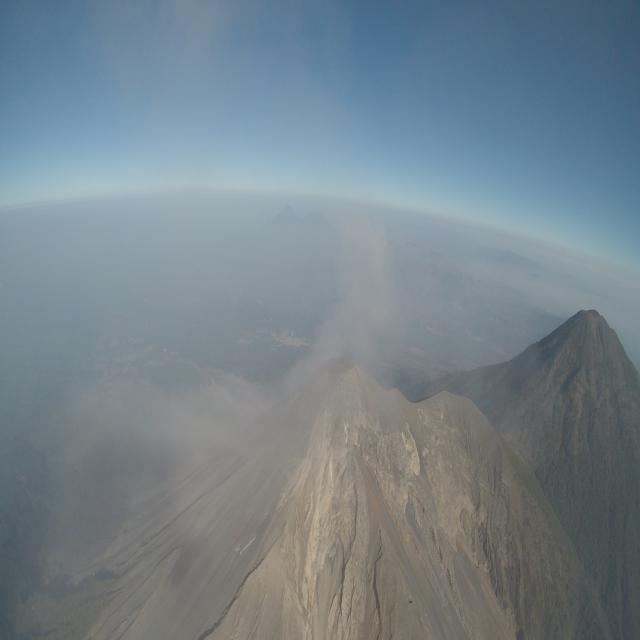Summit: (269, 355, 416, 468)
